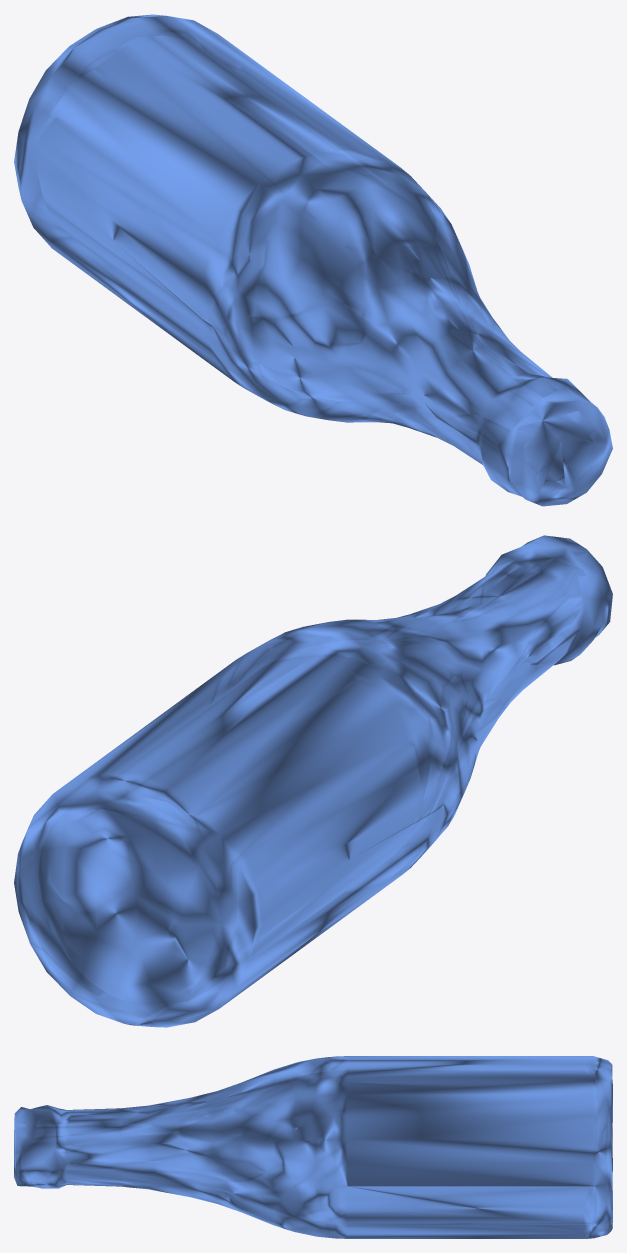
Rendered from model_align.obj.
3 renders of one model, top to bottom at view 1: azimuth 30°, elevation 25°; view 2: azimuth 150°, elevation 25°; view 3: azimuth 270°, elevation 25°, orthographic. The views are drawn at different scales.
Size of the model in its own units: 0.0407 by 0.0407 by 0.1328.
